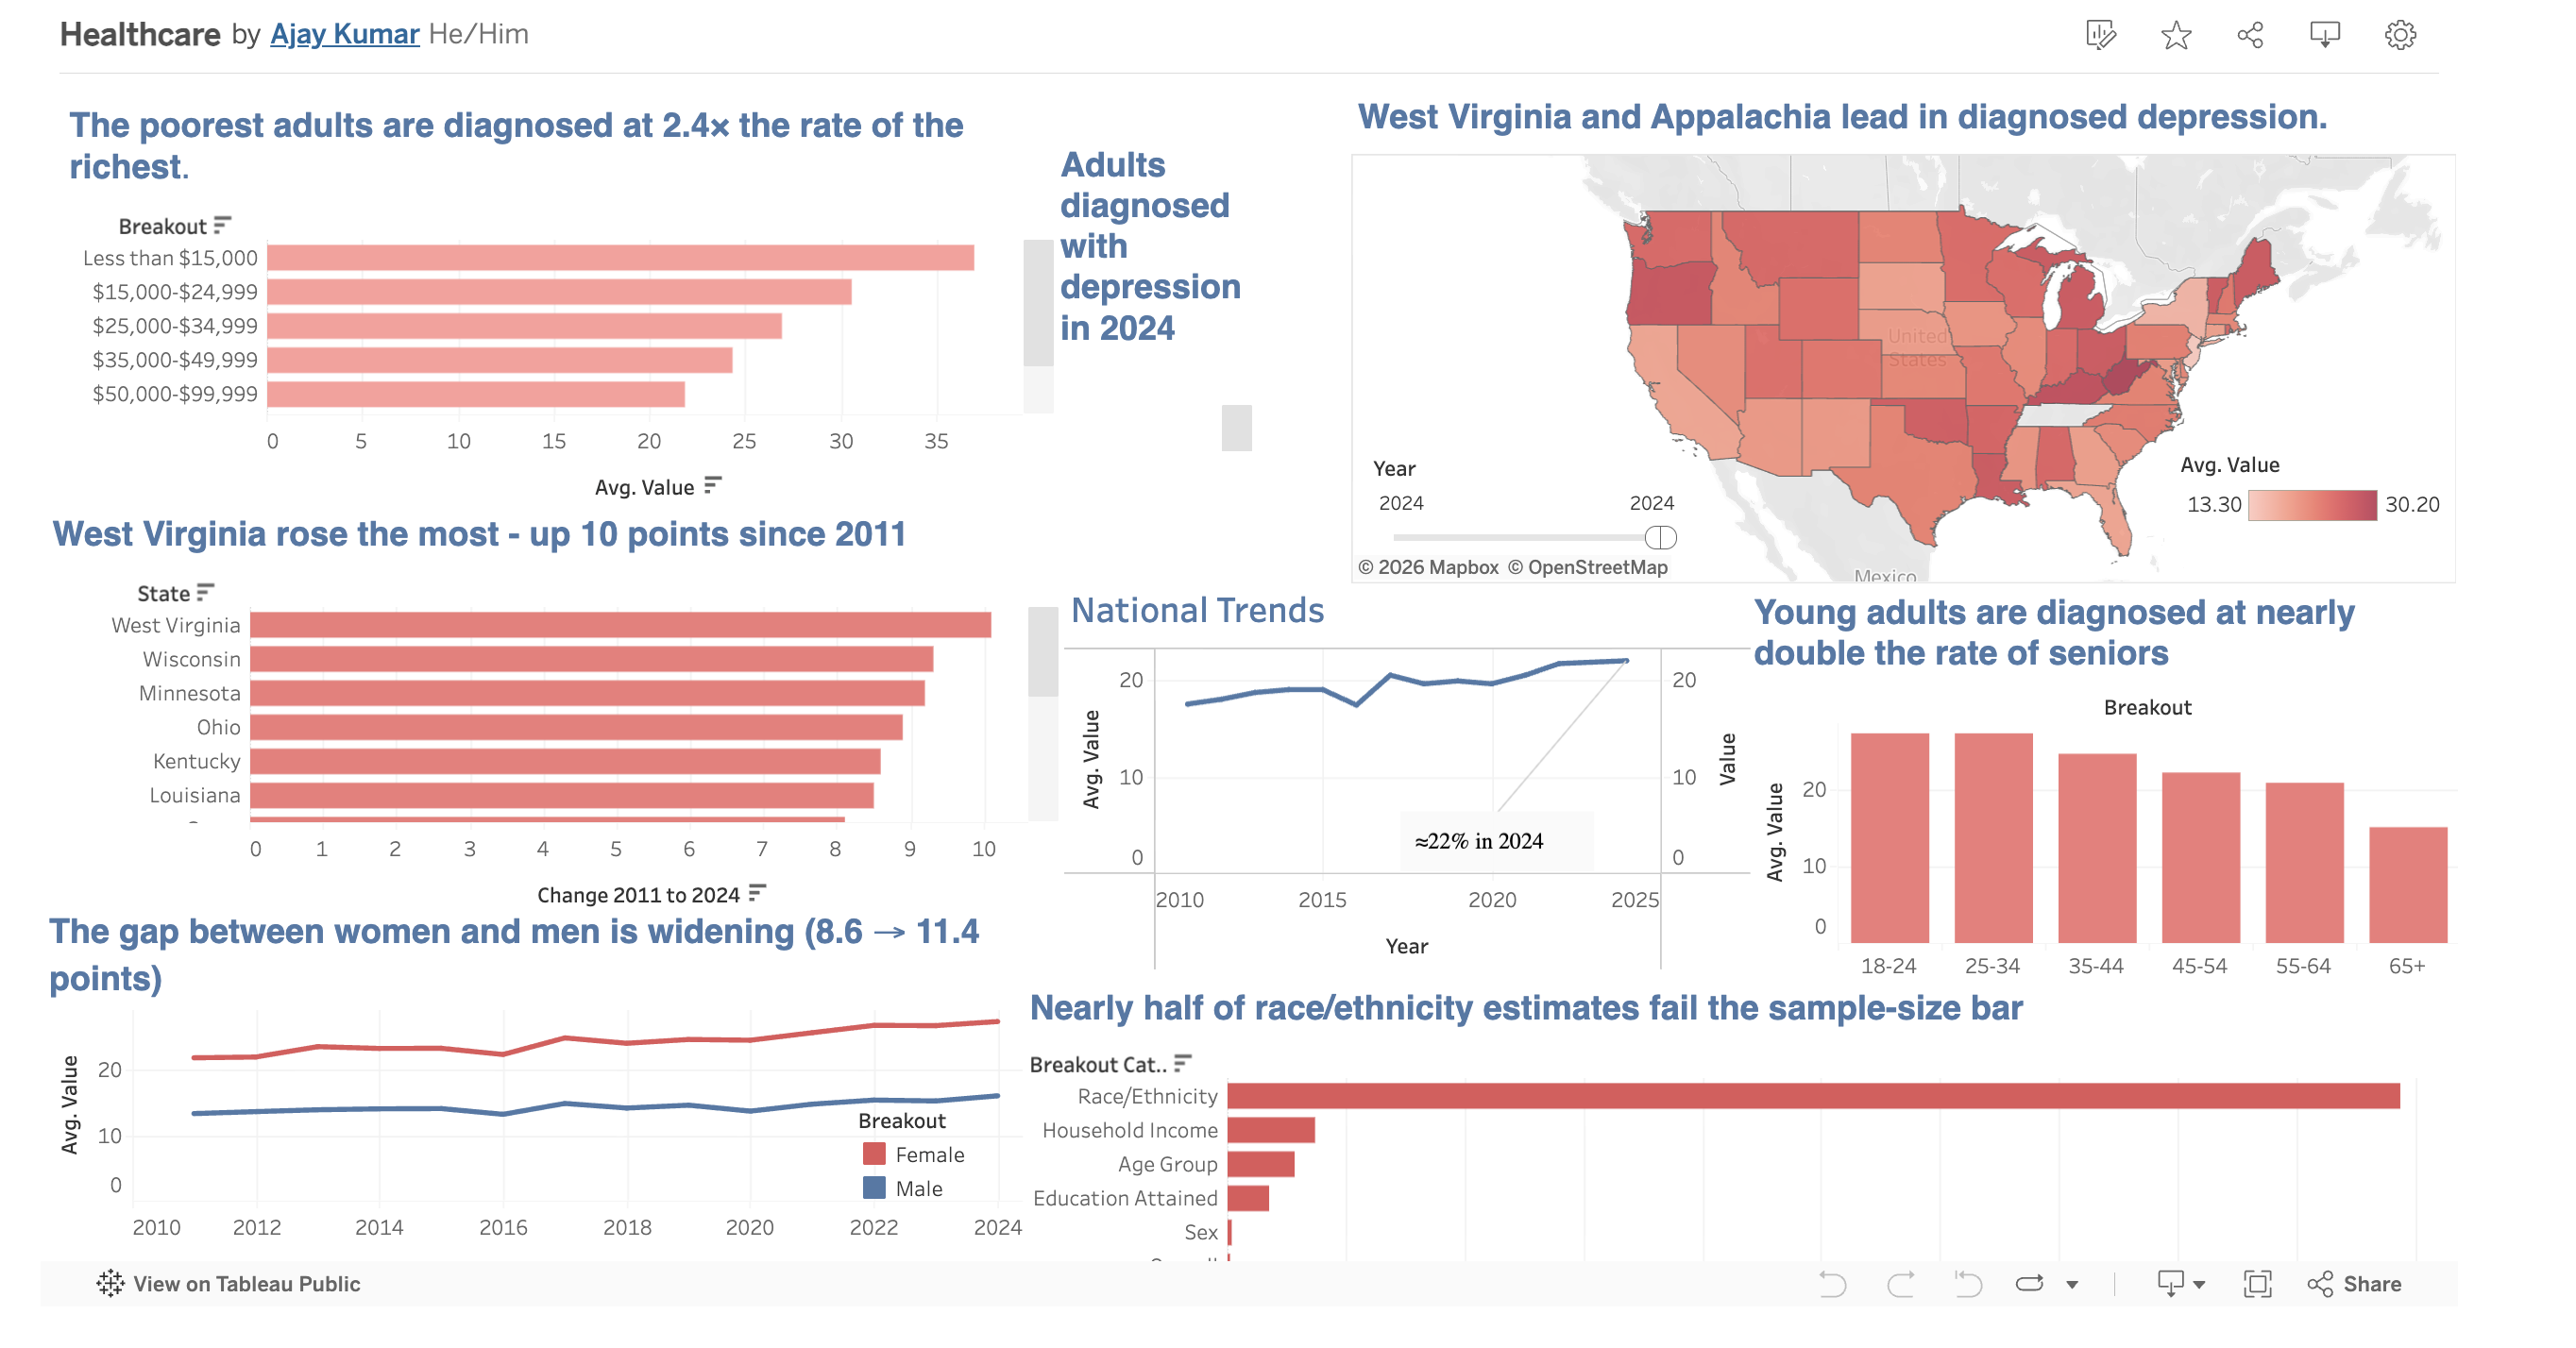

Layout of this report page (visuals, bound fields, positions):
{"tool":"tableau","page":{"name":"Dashboard 1","canvas":[1000,1000],"units":"permille","ordinal":0},"visuals":[{"type":"worksheet","title":"US Map","mark":"Automatic","box":[542.5,9.8,456.7,419.2]},{"type":"worksheet","title":"Income Gradient","mark":"Automatic","rows":["breakout"],"cols":["value"],"box":[6.4,11.1,415.4,362.1]},{"type":"worksheet","title":"KPI Cards/BAN's","mark":"Text","box":[419.4,15.3,177.1,302.2]},{"type":"legend","title":"US Map","param":"[federated.1y2o4fl0dd9hjo1f1xpwo03segxk].[avg:value:qk]","box":[885.6,316.2,111.2,105.9]},{"type":"filter","title":"US Map","param":"[federated.1y2o4fl0dd9hjo1f1xpwo03segxk].[none:Year:qk]","box":[551.2,318.9,127.1,85]},{"type":"worksheet","title":"Fastest rising states","mark":"Automatic","rows":["state"],"cols":["Calculation_2551356464009222"],"box":[2.4,360.7,418.6,351]},{"type":"worksheet","title":"National Trends","mark":"Line","rows":["value"],"cols":["Year"],"box":[423.4,422,285.2,332.9]},{"type":"worksheet","title":"age gradient","mark":"Automatic","rows":["value"],"cols":["breakout"],"box":[706.1,427.6,294.7,334.3]},{"type":"legend","title":"sex gap over time","param":"[federated.1y2o4fl0dd9hjo1f1xpwo03segxk].[none:breakout:nk]","box":[338.4,869.1,111.2,80.8]}]}

Visuals, with their boxes on the dashboard's canvas, which has no fixed pixel size, in thousandths of its width and height (x1, y1, x2, y2). These are canvas units, not pixel positions in the 2576x1348 screenshot, which may show the page scaled, cropped or inside an application window:
"US Map" worksheet: x1=542, y1=10, x2=999, y2=429
"Income Gradient" worksheet: x1=6, y1=11, x2=422, y2=373
"KPI Cards/BAN's" worksheet (Text marks): x1=419, y1=15, x2=596, y2=318
"US Map" legend: x1=886, y1=316, x2=997, y2=422
"US Map" filter: x1=551, y1=319, x2=678, y2=404
"Fastest rising states" worksheet: x1=2, y1=361, x2=421, y2=712
"National Trends" worksheet (Line marks): x1=423, y1=422, x2=709, y2=755
"age gradient" worksheet: x1=706, y1=428, x2=1001, y2=762
"sex gap over time" legend: x1=338, y1=869, x2=450, y2=950
